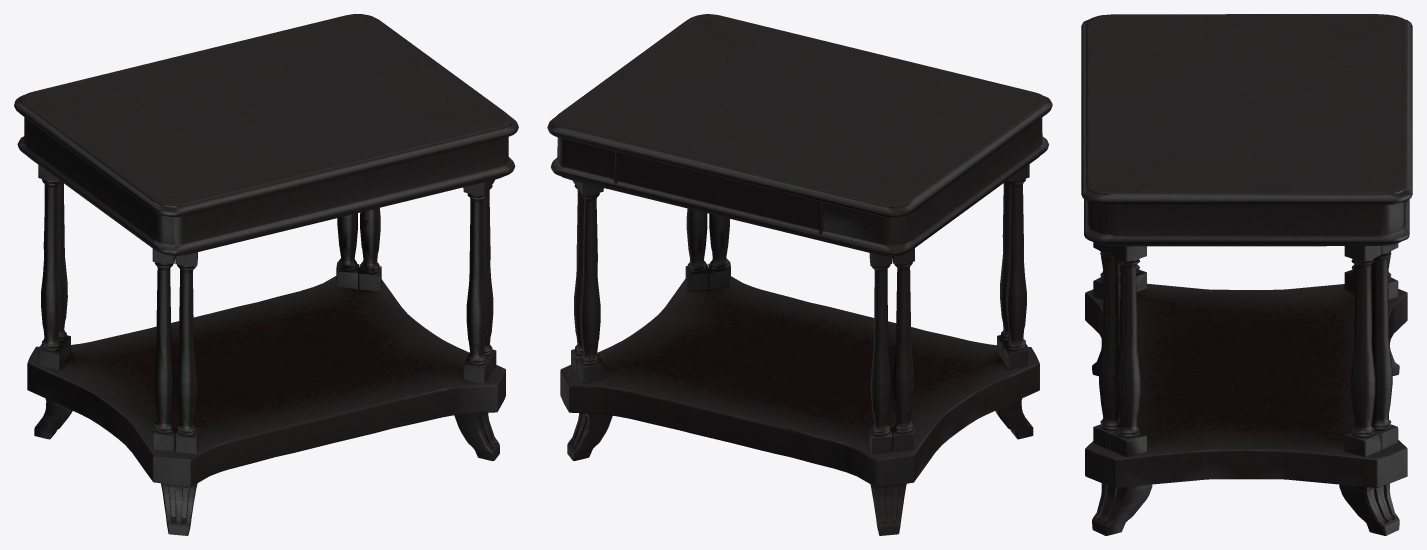
3 views of the same model, side by side, from view 1: azimuth 30°, elevation 25°; view 2: azimuth 150°, elevation 25°; view 3: azimuth 270°, elevation 25° (orthographic). The views are drawn at different scales.
Parts seen in each view (by area): view 1: Node; view 2: Node; view 3: Node.
Part boxes in pixels (x1=…): Node: x1=14, y1=14, x2=518, y2=535; Node: x1=547, y1=14, x2=1052, y2=535; Node: x1=1081, y1=14, x2=1412, y2=535.
Size of the model in its own units: 0.6416 by 0.5689 by 0.4896.
Materials: 1 (1 with a texture image).
